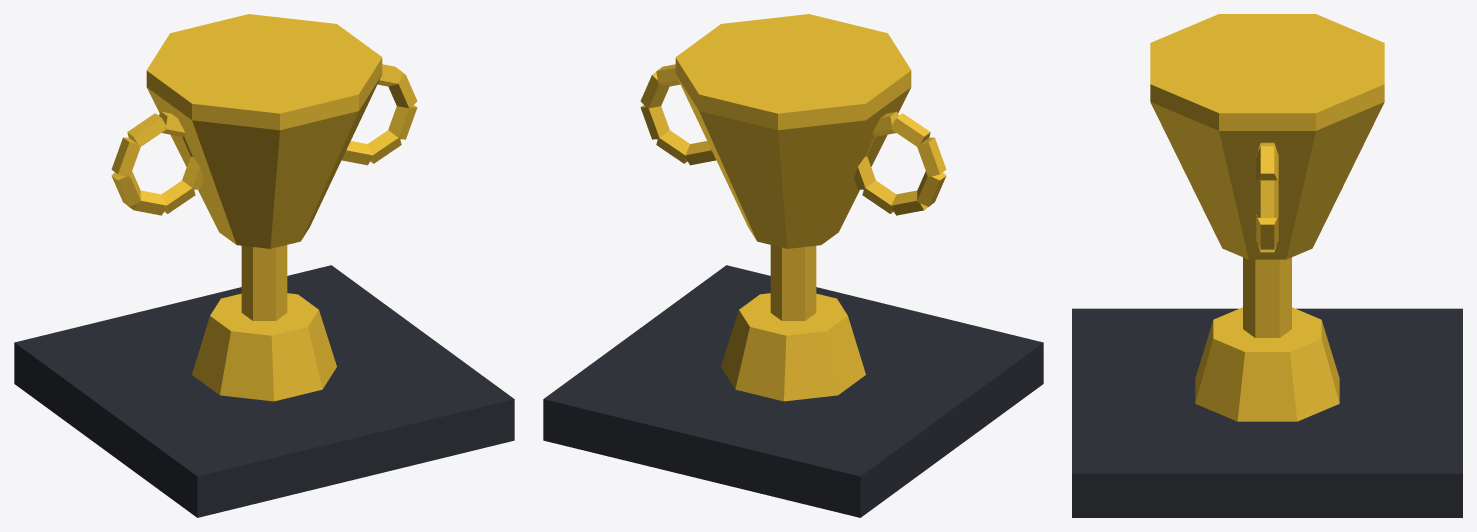
Rendered from trophy.glb.
3 renders of one model, left to right at view 1: azimuth 30°, elevation 25°; view 2: azimuth 150°, elevation 25°; view 3: azimuth 270°, elevation 25°, orthographic. The views are drawn at different scales.
Visible parts, largest first — view 1: trophy; view 2: trophy; view 3: trophy.
Part boxes in pixels (left/top/right/bottom): trophy: left=14, top=14, right=514, bottom=517; trophy: left=543, top=14, right=1043, bottom=517; trophy: left=1072, top=14, right=1462, bottom=517.
Bounding box in the file's own units: 0.4 × 0.42 × 0.4.
